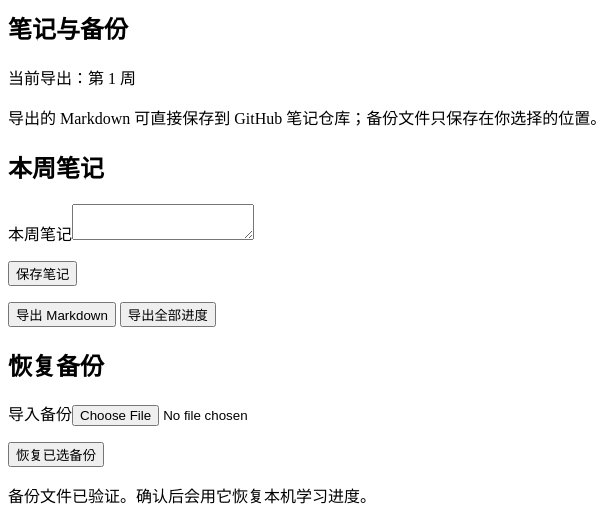
Test: NotesSettingsPage › keeps the validated candidate available for retry after a storage error
Earlier steps of the test are not shown.
Expected: the message "备份文件已验证。确认后会用它恢复本机学习进度。" is shown, [8,488,376,505]
Click the button "恢复已选备份".
click(56, 455)  # box [8,442,104,467]
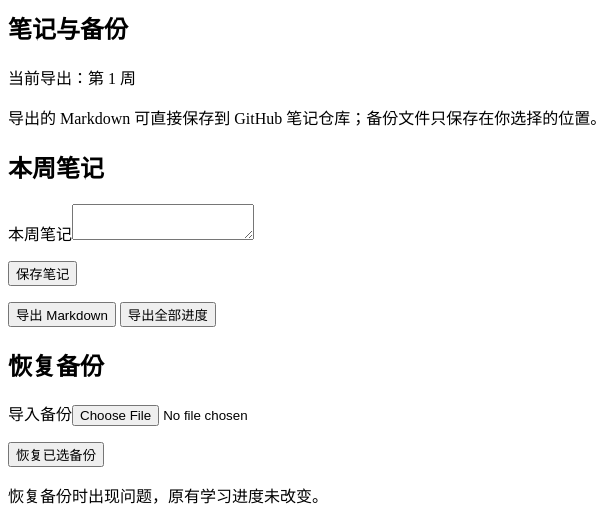
Expected: the message reads "恢复备份时出现问题，原有学习进度未改变。", [8,488,328,505]
Click the button "恢复已选备份".
click(56, 455)  # box [8,442,104,467]
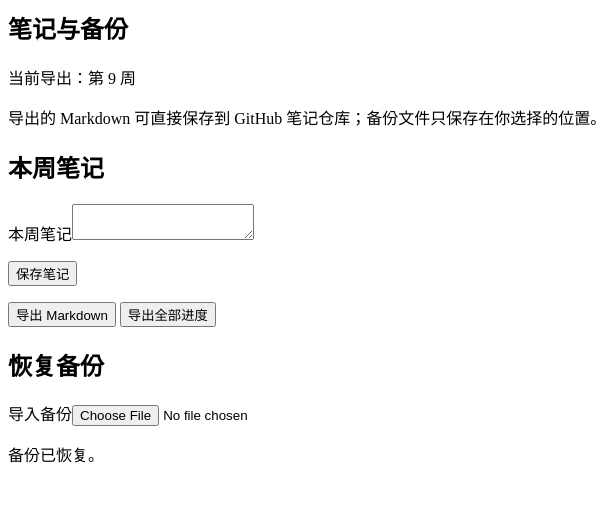
Expected: the message shows "备份已恢复", [8,447,104,464]
Expected: the text "当前导出：第 9 周" is shown, [8,70,136,87]
